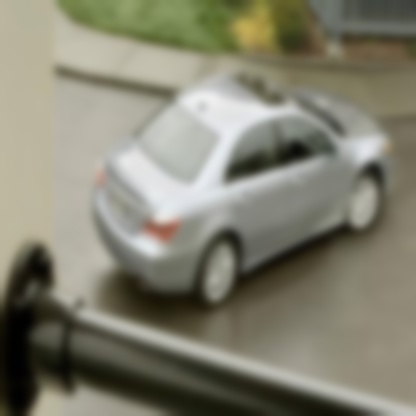Vehicle: (91, 68, 398, 313)
